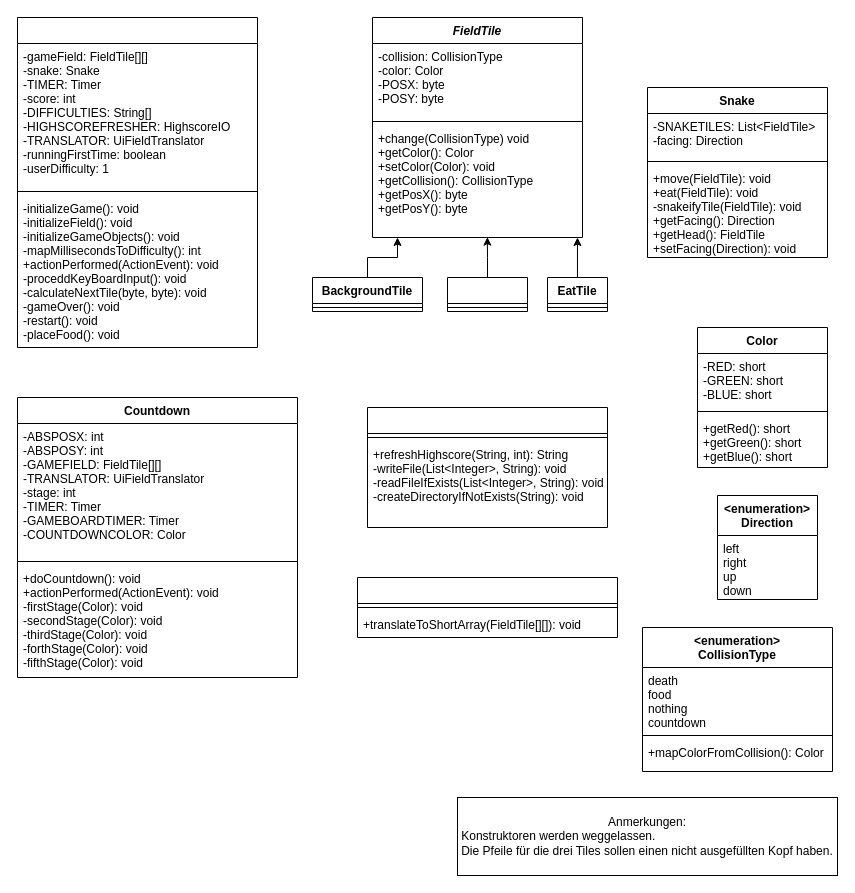
This 855x893 diagram has some shape labels left out. Each missing label, with the box of its shape:
BorderTile: (446, 276, 528, 312)
GameBoard: (16, 16, 258, 348)
HighscoreIO: (366, 406, 608, 528)
UiFieldTranslator: (356, 576, 618, 638)
